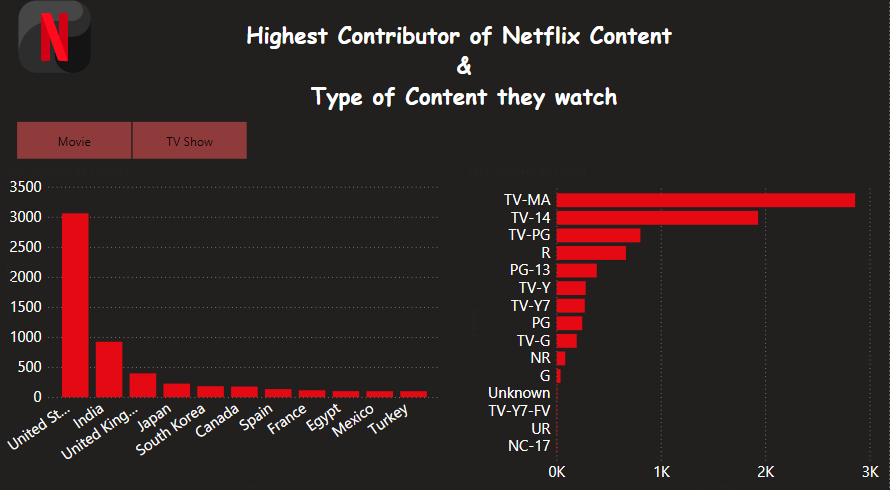

What the dashboard file says about the page in this screenshot:
{"tool":"powerbi","page":{"name":"Report 3","canvas":[1280,720],"ordinal":5},"visuals":[{"type":"image","box":[13.4,0,134.4,114.2],"z":0},{"type":"slicer","fields":{"Values":["netflix_titles.type"]},"box":[0,173,379.6,67.2],"z":1000},{"type":"textbox","box":[151.2,25.2,1034.8,147.8],"z":2000},{"type":"clusteredColumnChart","fields":{"Category":["netflix_titles.country"],"Y":["Date.COUNT"]},"box":[0,240.2,640,480.4],"z":3000},{"type":"clusteredBarChart","fields":{"Category":["netflix_titles.rating"],"Y":["Date.COUNT"]},"box":[668.6,240.2,611.4,480.4],"z":4000}]}

Visuals, with their boxes in screenshot pixels (x1, y1, x2, y2), scaled from the page's 1280x720 canvas onto the 890x490 screenshot:
image: detection(9, 0, 103, 78)
slicer - netflix_titles.type: detection(0, 118, 264, 163)
textbox: detection(105, 17, 825, 118)
clusteredColumnChart - netflix_titles.country x Date.COUNT: detection(0, 163, 445, 489)
clusteredBarChart - netflix_titles.rating x Date.COUNT: detection(465, 163, 889, 489)
